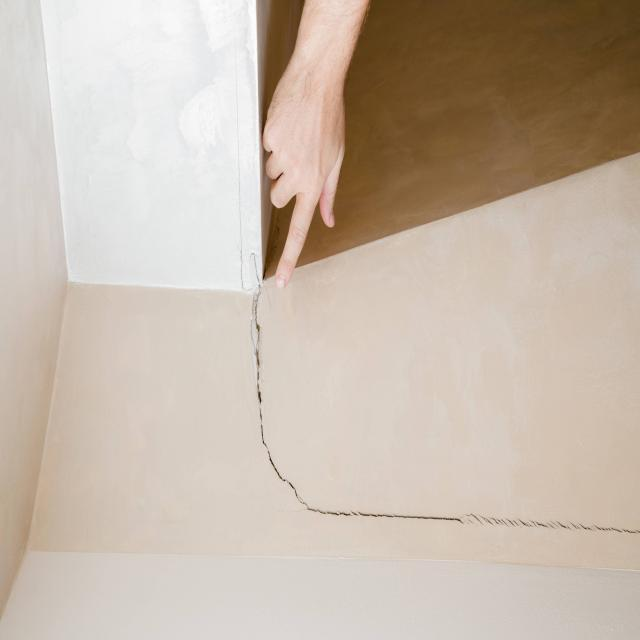Crack: (245, 282, 300, 516), (304, 502, 640, 534)
